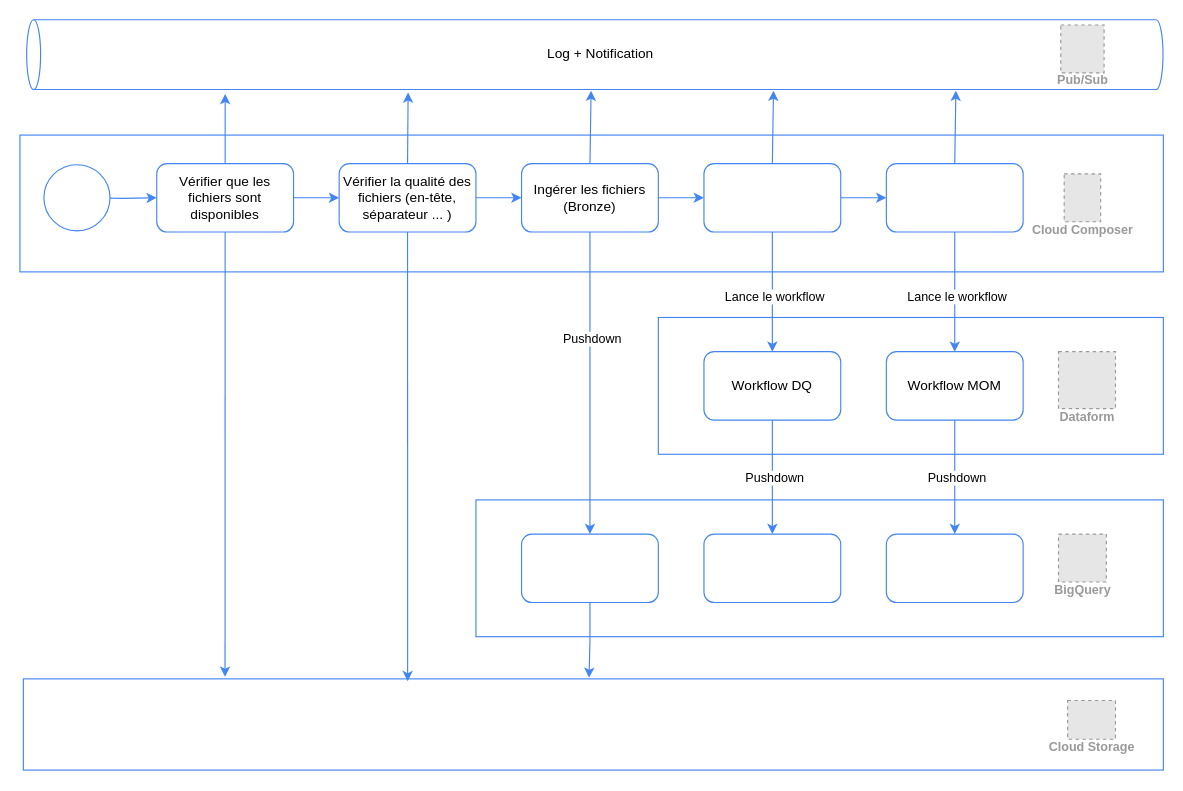
Image size: 1183x791. Some labels were removed from this diagram. Grey dashed boxes stand in for pictures. The centre of each missing label's shape, as x and y in pixels:
Début: point (76, 197)
Nettoyage des données (Silver): point (772, 197)
Requête d'ingestion: point (589, 567)
Requêtes DQ: point (772, 567)
Requêtes Transfo/Alim: point (954, 567)
Transformations et alimentations du modèle Business (Gold): point (954, 197)
